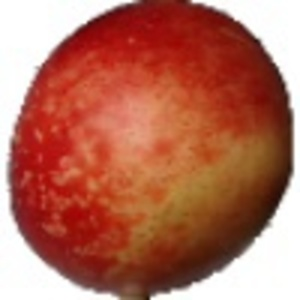nectarina: (5, 1, 296, 300)
